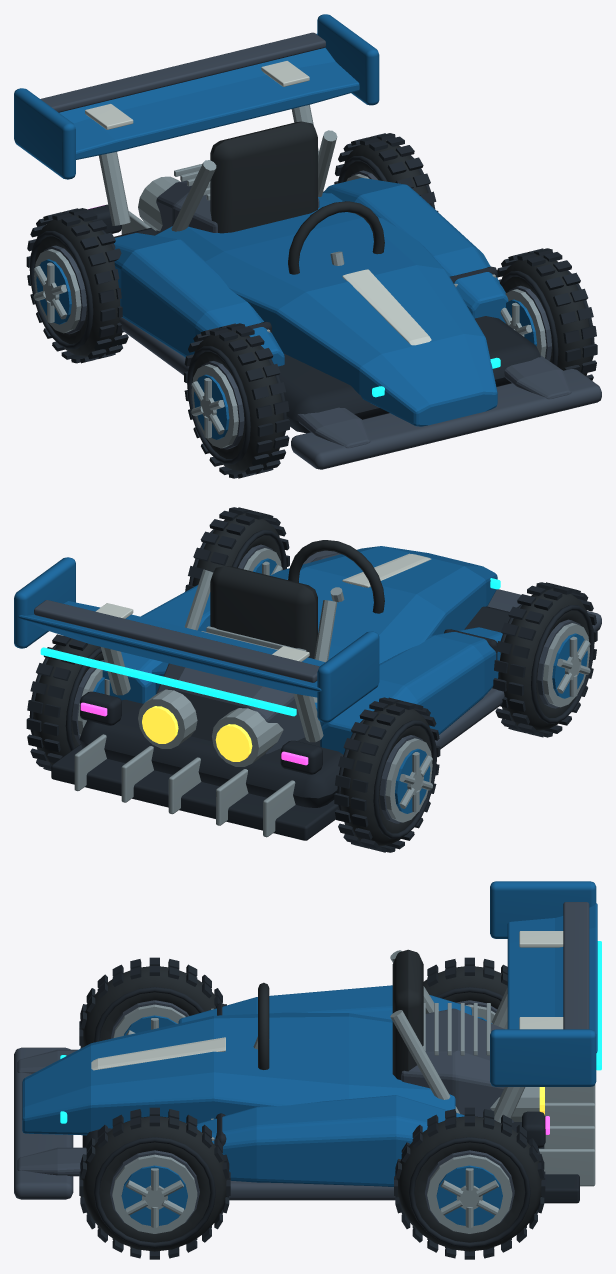
The model's file is kart-azure.glb.
The picture shows the model from 3 angles, top to bottom: view 1: azimuth 30°, elevation 25°; view 2: azimuth 150°, elevation 25°; view 3: azimuth 270°, elevation 25°; orthographic projection.
Visible parts, largest first — view 1: Kart_Surface, WheelFL_Surface, WheelRL_Surface, WheelFR_Surface, WheelRR_Surface; view 2: Kart_Surface, WheelRL_Surface, WheelFL_Surface, WheelRR_Surface, WheelFR_Surface; view 3: Kart_Surface, WheelFR_Surface, WheelRR_Surface, WheelFL_Surface, WheelRL_Surface.
Boxes of the visible parts, x1,y1,x2,y2 form: Kart_Surface: (14, 14, 601, 469); WheelFL_Surface: (184, 323, 289, 478); WheelRL_Surface: (26, 208, 128, 363); WheelFR_Surface: (497, 248, 597, 380); WheelRR_Surface: (334, 133, 438, 211); Kart_Surface: (14, 540, 601, 840); WheelRL_Surface: (334, 697, 440, 852); WheelFL_Surface: (492, 582, 597, 737); WheelRR_Surface: (26, 634, 109, 770); WheelFR_Surface: (185, 507, 289, 591); Kart_Surface: (14, 881, 601, 1203); WheelFR_Surface: (79, 1107, 230, 1259); WheelRR_Surface: (394, 1107, 545, 1259); WheelFL_Surface: (79, 957, 226, 1048); WheelRL_Surface: (423, 957, 507, 1023).
Size of the model in its own units: 1.81 by 1.03 by 2.48.
